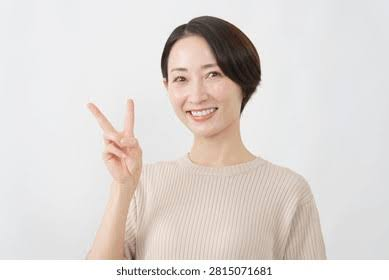peace_sign: (88, 96, 148, 182)
